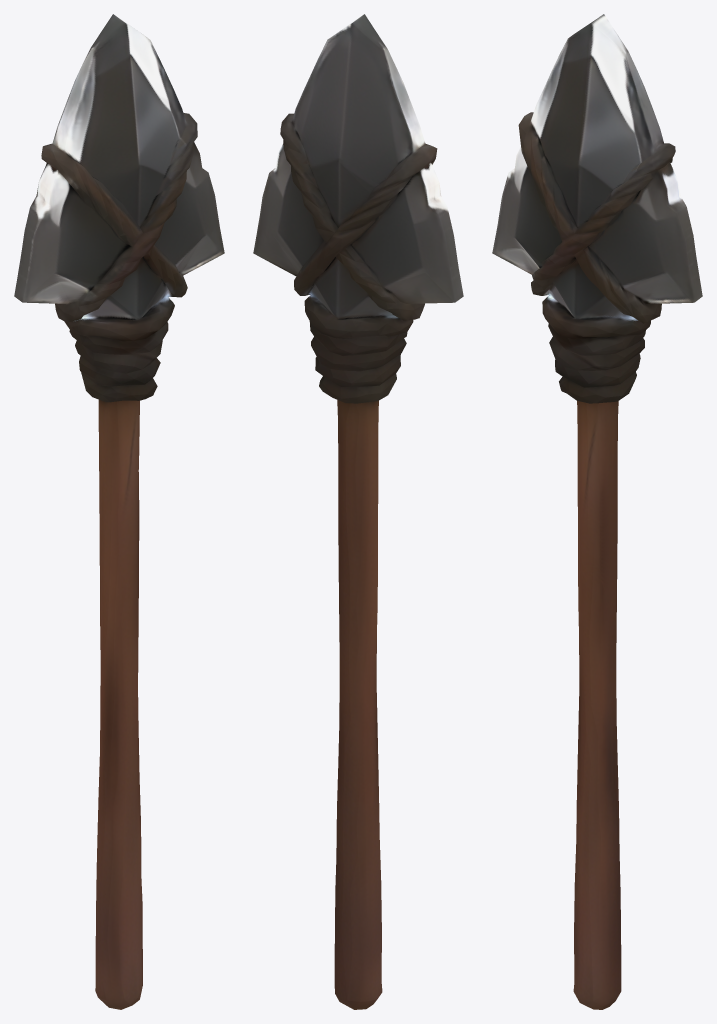
The model's file is base_basic_shaded.fbx.
3 views of the same model, side by side, from view 1: azimuth 30°, elevation 25°; view 2: azimuth 150°, elevation 25°; view 3: azimuth 330°, elevation 25° (orthographic).
Visible parts, largest first — view 1: model; view 2: model; view 3: model.
Part boxes in pixels (bbox=[...]): model: bbox=[14, 14, 224, 1009]; model: bbox=[253, 14, 463, 1009]; model: bbox=[492, 14, 702, 1009].
Size of the model in its own units: 37.47 by 175 by 18.05.
